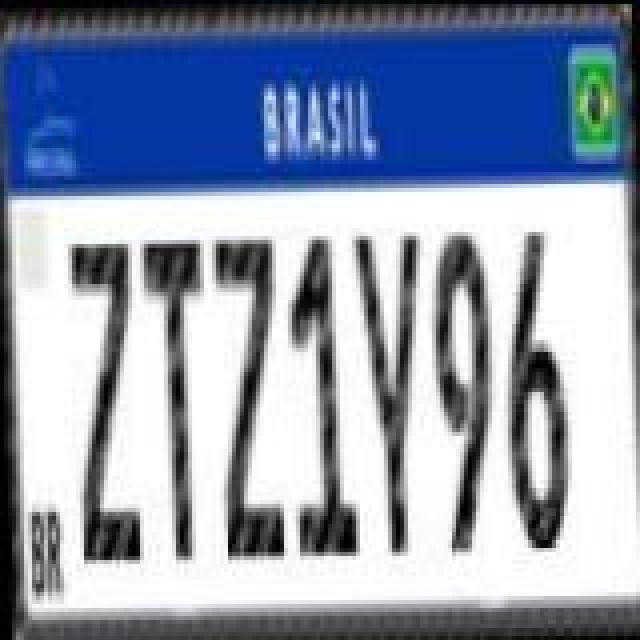1: (286, 228, 362, 560)
6: (504, 226, 576, 558)
9: (428, 224, 500, 560)
T: (144, 238, 216, 570)
Y: (356, 228, 436, 556)
Z: (66, 238, 142, 570), (216, 234, 288, 566)
